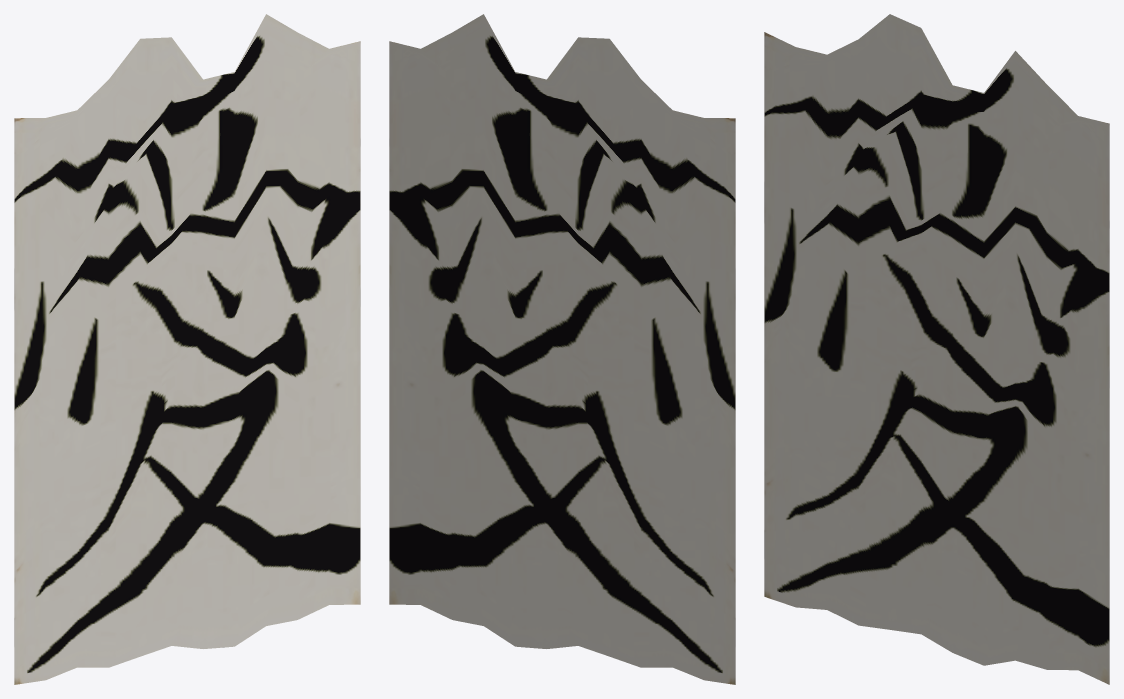
File: KanjiDeformado.fbx
3 renders of one model, left to right at view 1: azimuth 30°, elevation 25°; view 2: azimuth 150°, elevation 25°; view 3: azimuth 330°, elevation 25°, orthographic.
Parts seen in each view (by area): view 1: KanjiDeformado; view 2: KanjiDeformado; view 3: KanjiDeformado.
Boxes of the visible parts, <box> form: KanjiDeformado: <box>14,14,360,684</box>; KanjiDeformado: <box>389,14,735,684</box>; KanjiDeformado: <box>764,14,1109,684</box>.
Size of the model in its own units: 445 by 775 by 9.16e-05.
1 material, 1 textured.
